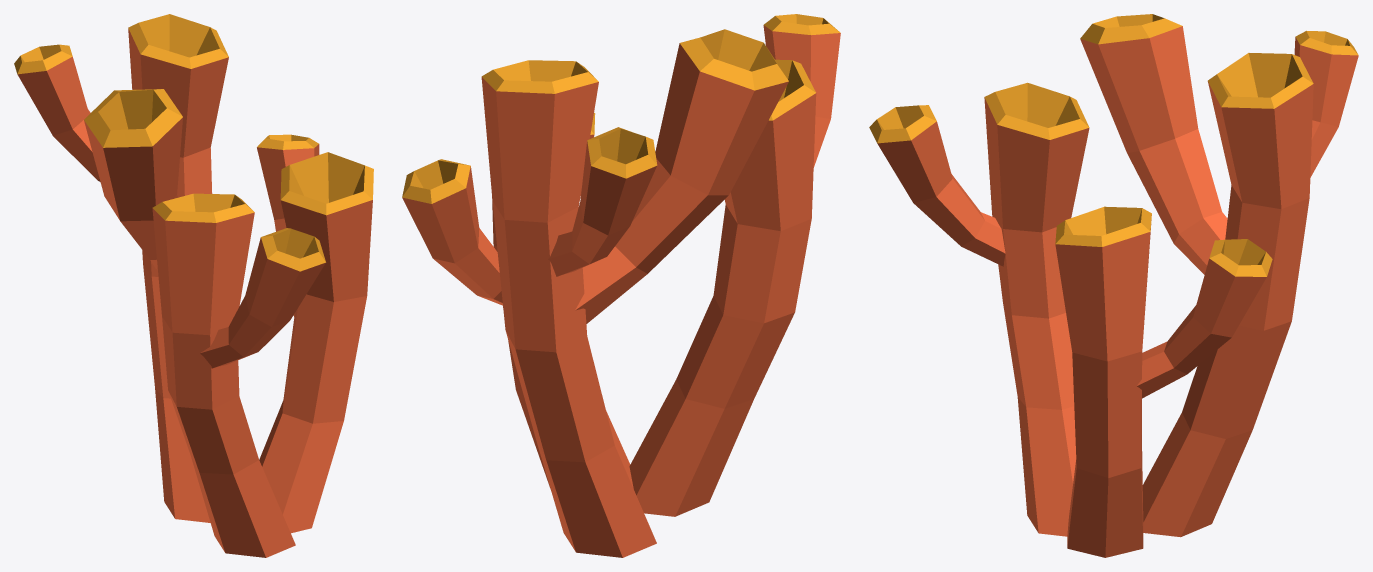
The model's file is Coral_029.glb.
The picture shows the model from 3 angles, left to right: view 1: azimuth 30°, elevation 25°; view 2: azimuth 150°, elevation 25°; view 3: azimuth 270°, elevation 25°; orthographic projection. The views are drawn at different scales.
Visible parts, largest first — view 1: Coral_029; view 2: Coral_029; view 3: Coral_029.
Boxes of the visible parts, box(x1,y1,x2,y2) form: Coral_029: box(14, 14, 373, 557); Coral_029: box(402, 14, 840, 557); Coral_029: box(869, 14, 1358, 557).
Size of the model in its own units: 0.4013 by 0.618 by 0.5944.
1 material, 1 textured.
